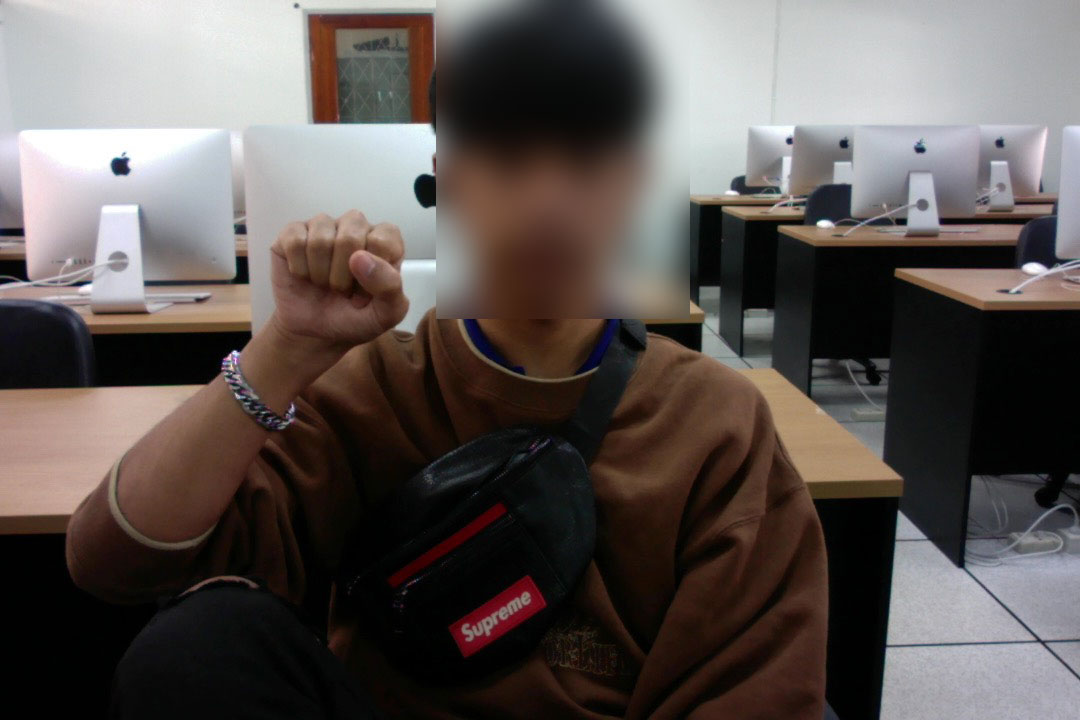sor: (262, 207, 419, 352)
